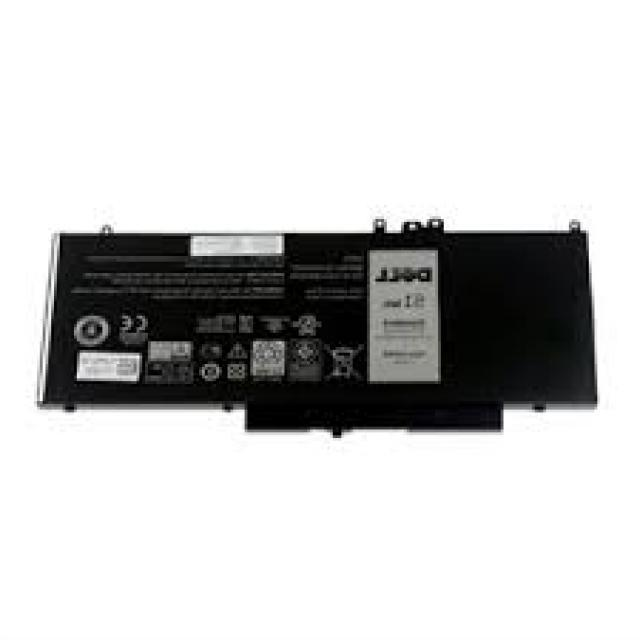battery: (36, 212, 601, 438)
